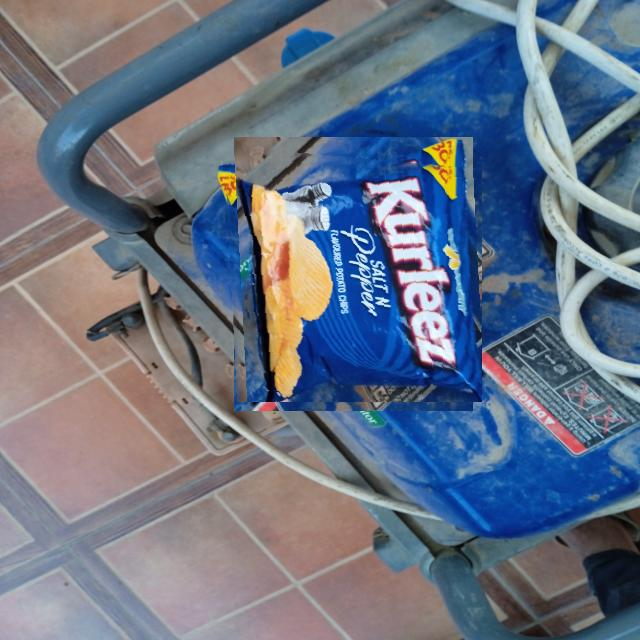Plastic: (224, 146, 482, 402)
